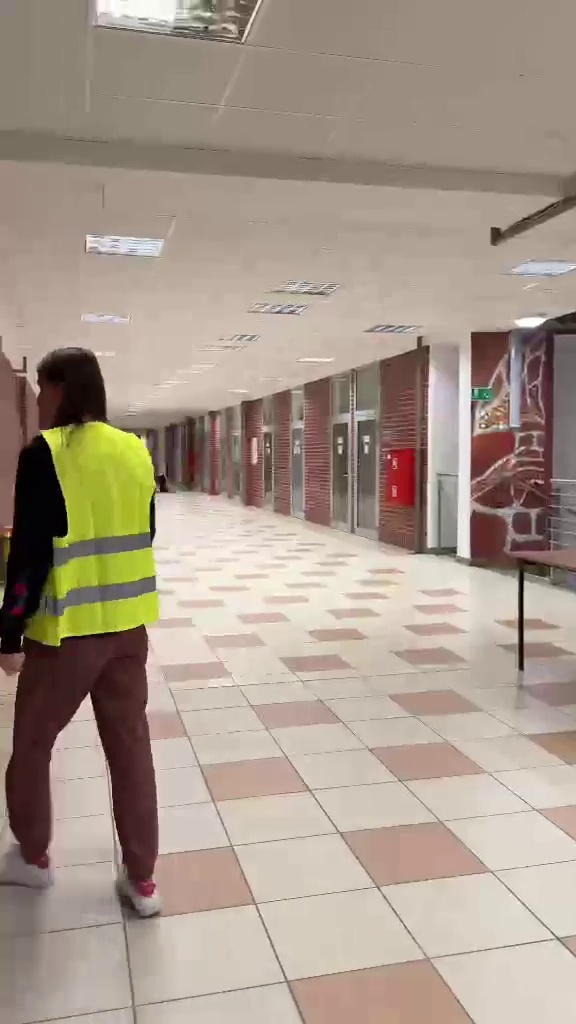vest: (15, 353, 187, 928)
